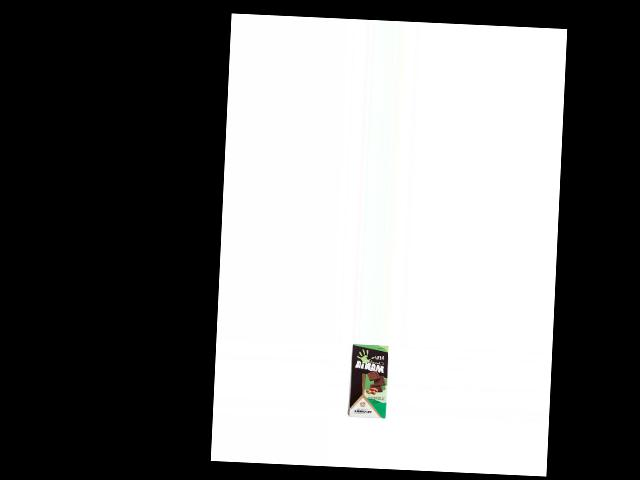chocolate: (346, 342, 390, 420)
